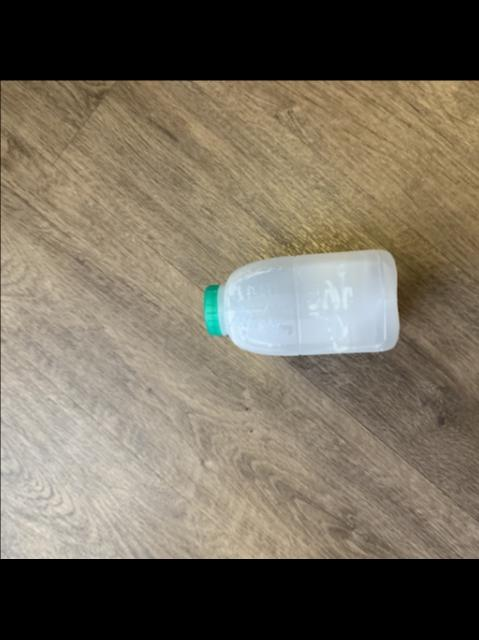plastic: (202, 249, 396, 354)
